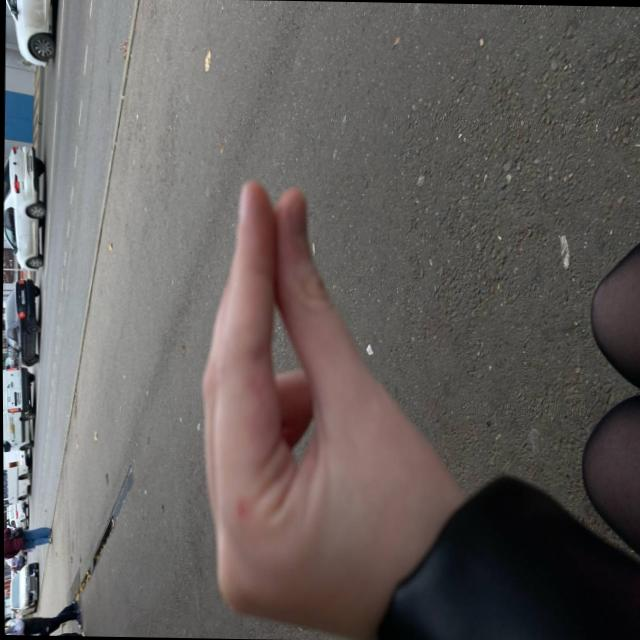ch: (190, 180, 459, 604)
